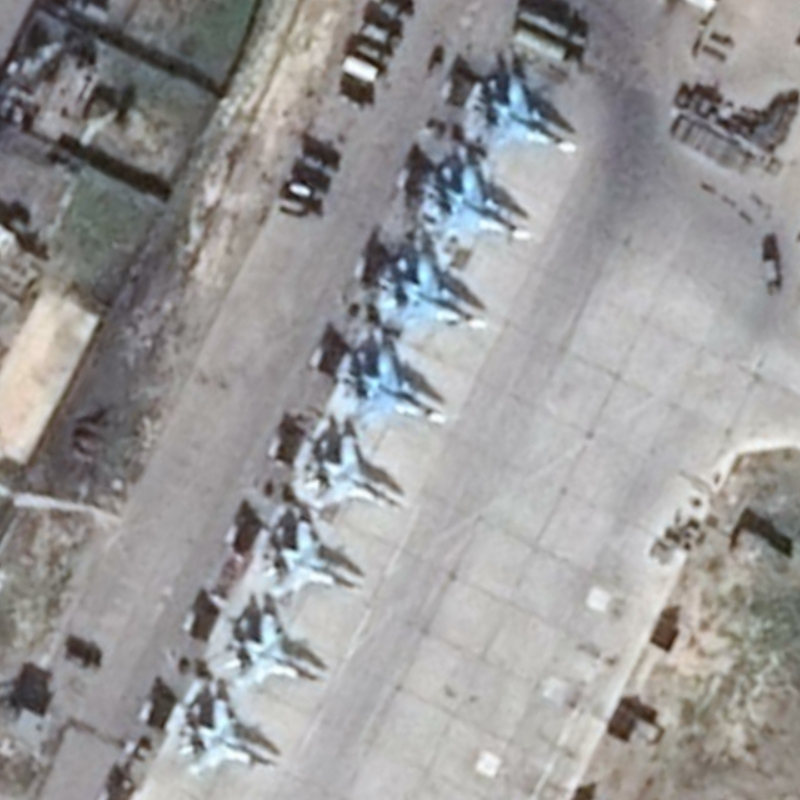A1: (262, 513, 368, 598), (226, 606, 325, 693), (179, 696, 282, 779), (305, 430, 402, 516)
A19: (417, 158, 537, 251), (465, 69, 579, 161), (324, 343, 445, 428), (372, 247, 492, 331)
